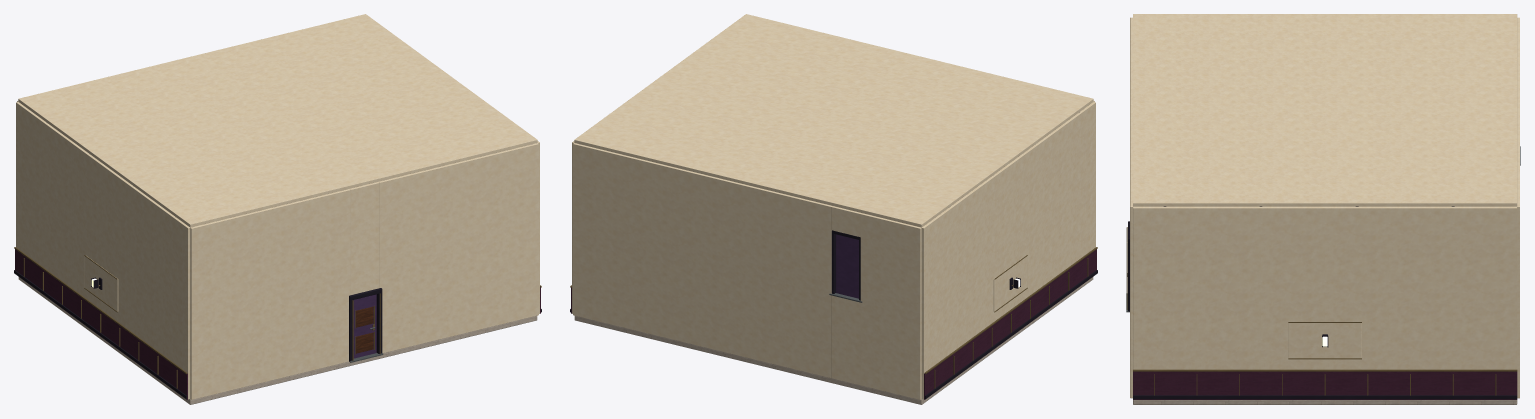
File: explore3d__hotel_lobby.glb
3 views of the same model, side by side, from view 1: azimuth 30°, elevation 25°; view 2: azimuth 150°, elevation 25°; view 3: azimuth 270°, elevation 25° (orthographic). The views are drawn at different scales.
Visible parts, largest first — view 1: ceiling_surface.007, front_wall.023, front_wall.021, left_wall.023, left_wainscot.015, front_wall.022, floor.008, left_upper_inset.015, hotel_lobby_leaf, left_skirt.015, left_rail.015; view 2: ceiling_surface.007, back_wall.017, left_wall.023, back_wall.014, left_wainscot.015, back_wall.015, floor.008, hotel_lobby_leaf.001, left_upper_inset.015, left_skirt.015, back_wall.016, left_rail.015; view 3: ceiling_surface.007, right_wall.023, right_wainscot.015, right_upper_inset.015, floor.008, right_skirt.015, right_rail.015, back_wall.017, front_wall.021.
Part boxes in pixels (x1,y1,x2,y2): ceiling_surface.007: (18,14,537,227); front_wall.023: (190,189,350,399); front_wall.021: (379,143,538,353); left_wall.023: (16,102,190,399); left_wainscot.015: (15,249,187,399); front_wall.022: (349,181,379,294); floor.008: (18,277,537,404); left_upper_inset.015: (84,256,118,311); hotel_lobby_leaf: (353,294,376,358); left_skirt.015: (14,270,187,398); left_rail.015: (14,247,187,374); ceiling_surface.007: (574,14,1093,227); back_wall.017: (573,143,832,377); left_wall.023: (921,102,1095,399); back_wall.014: (860,213,921,399); left_wainscot.015: (924,249,1096,399); back_wall.015: (831,295,860,385); floor.008: (574,277,1093,404); hotel_lobby_leaf.001: (836,234,858,298); left_upper_inset.015: (993,256,1027,311); left_skirt.015: (924,270,1097,398); back_wall.016: (831,206,861,237); left_rail.015: (924,247,1097,374); ceiling_surface.007: (1133,14,1517,206); right_wall.023: (1133,206,1517,369); right_wainscot.015: (1133,371,1517,399); right_upper_inset.015: (1288,323,1361,358); floor.008: (1133,400,1517,404); right_skirt.015: (1133,395,1517,399); right_rail.015: (1133,369,1517,371); back_wall.017: (1517,66,1519,398); front_wall.021: (1130,120,1132,398).
Bounding box in the file's own units: 14.96 × 6.96 × 12.32.
19 materials, 17 textured.
